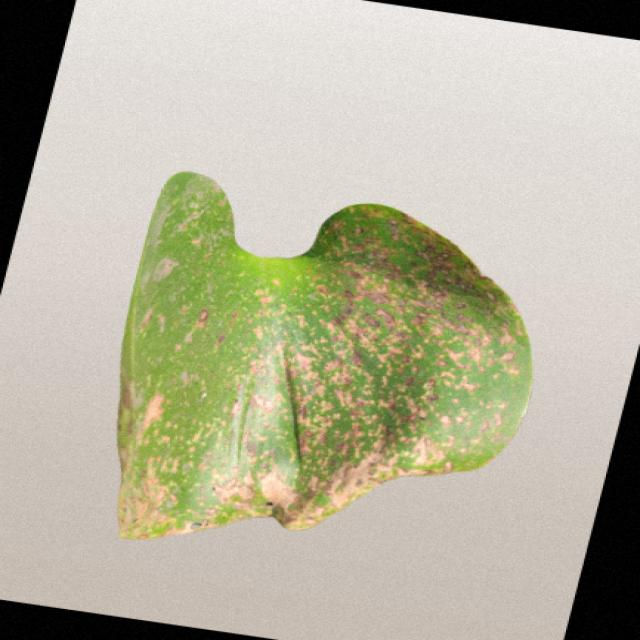daun berpenyakit karat: (118, 172, 531, 538)
